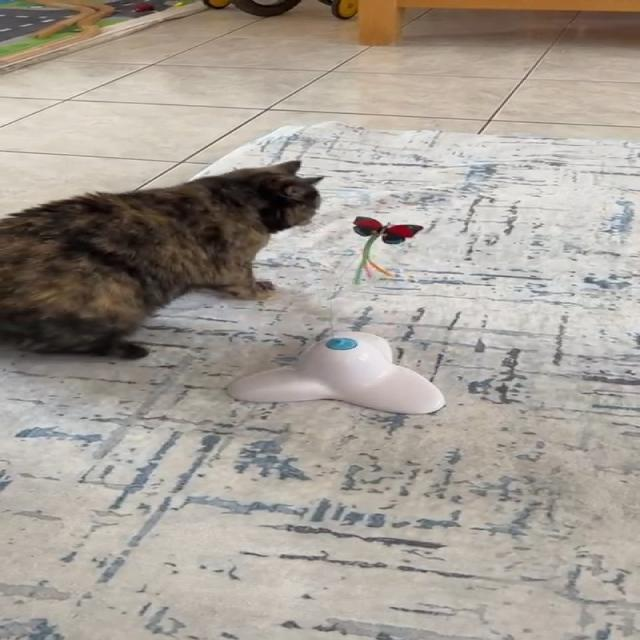authorized: (0, 159, 324, 360)
